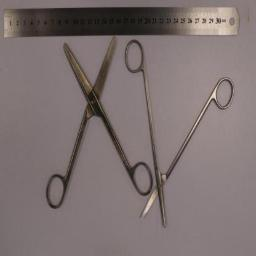Dressing Scissors: (45, 35, 153, 211)
